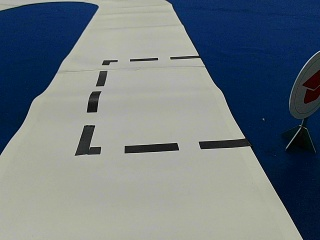school: (289, 52, 319, 117)
